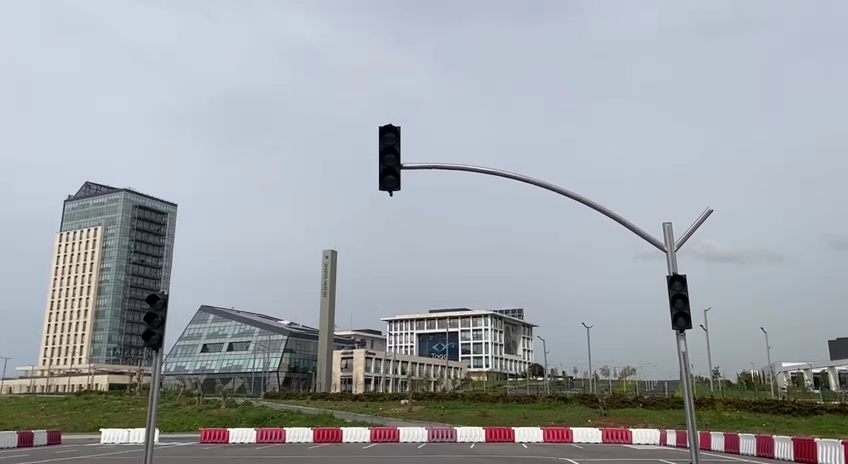trafficLight: (373, 119, 406, 199), (663, 266, 696, 336), (140, 289, 172, 354)
